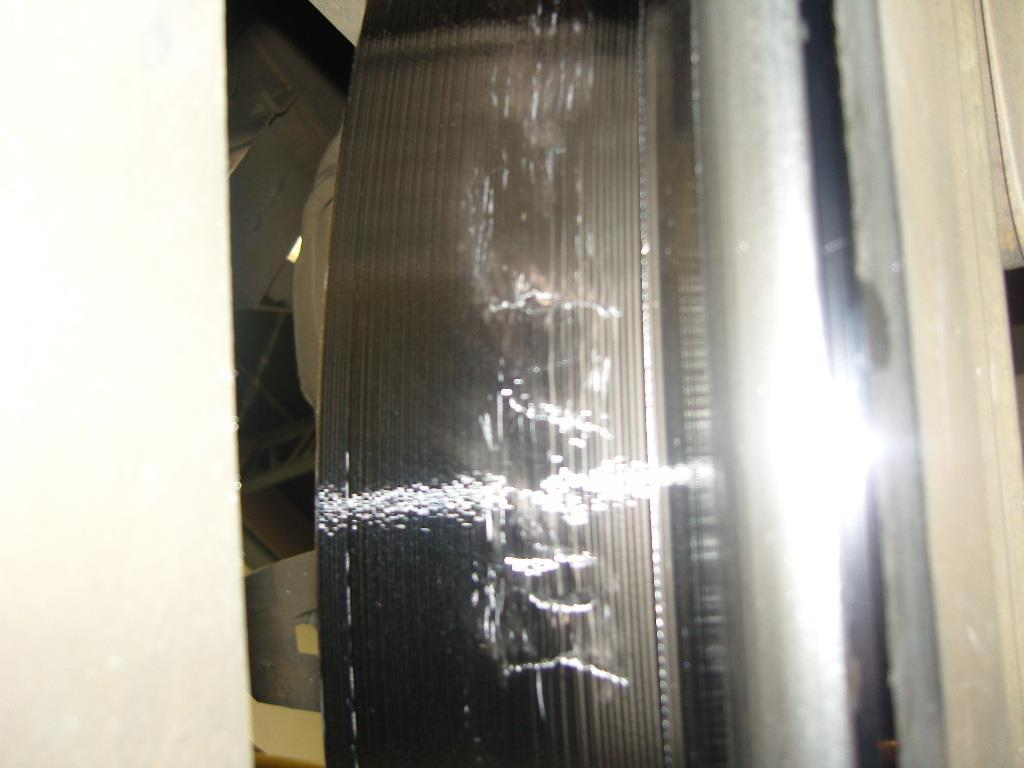Cracks-Scratches: (491, 379, 617, 448), (482, 284, 625, 325), (502, 653, 635, 696), (499, 550, 609, 579), (521, 589, 604, 618)
